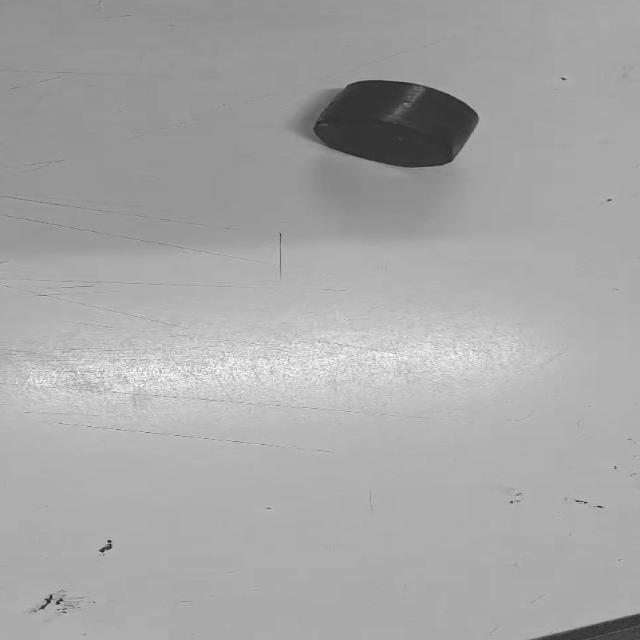rcircle: (313, 79, 478, 166)
